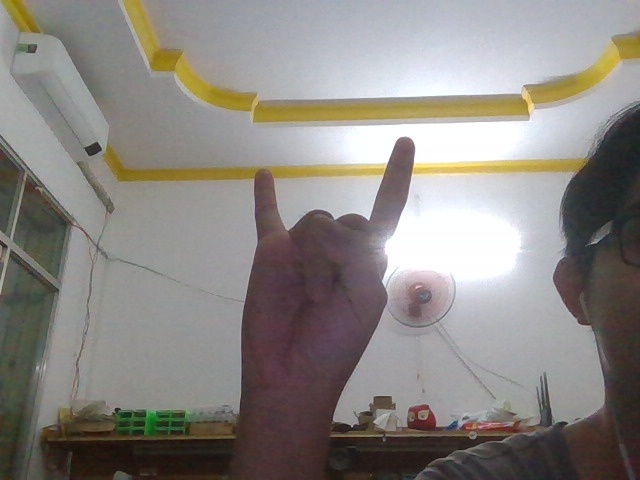yolo: (232, 128, 434, 435)
